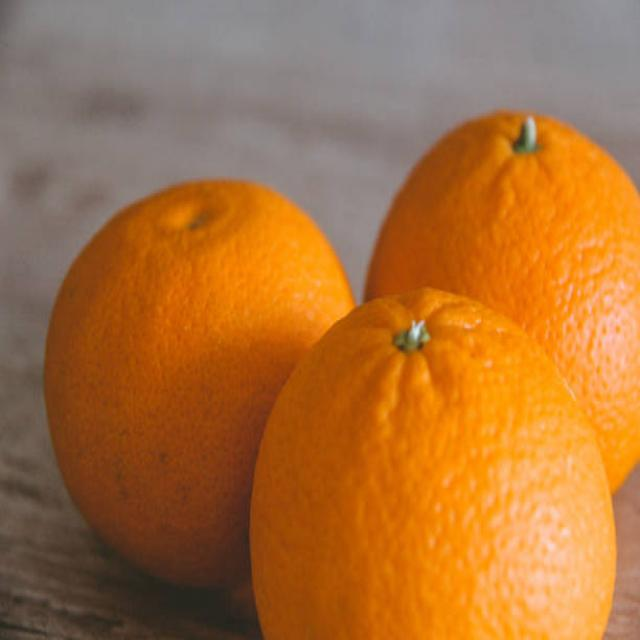Ripe: (245, 280, 620, 640), (41, 171, 258, 594), (362, 99, 640, 287)
